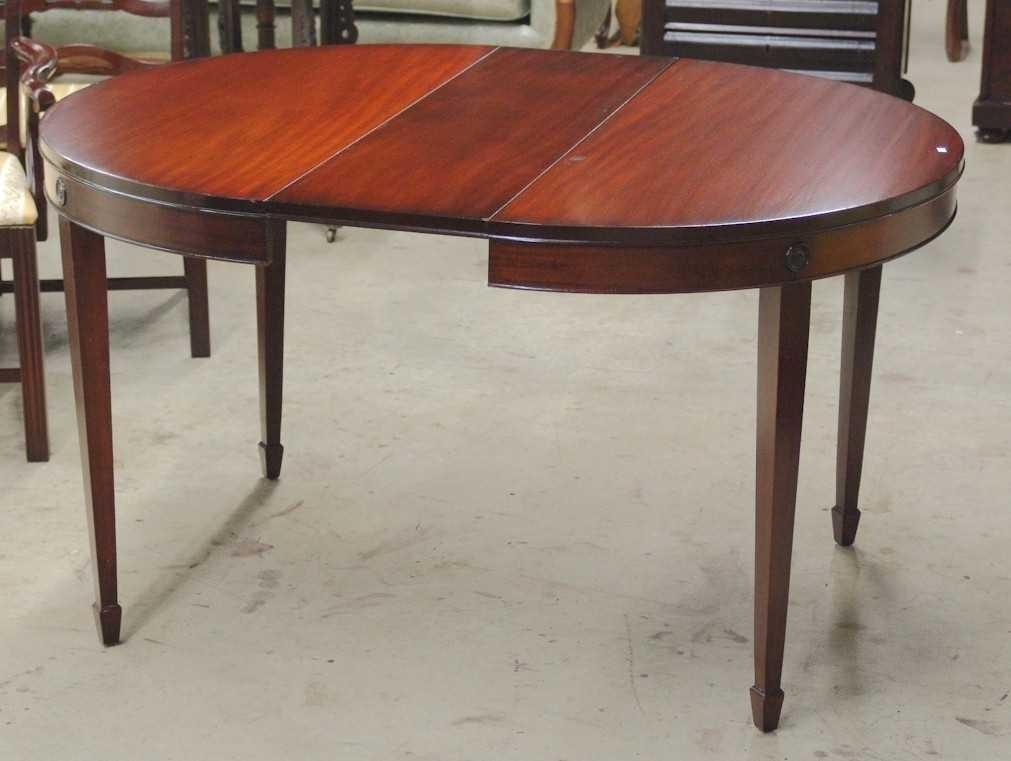obstacle: (41, 46, 963, 730)
